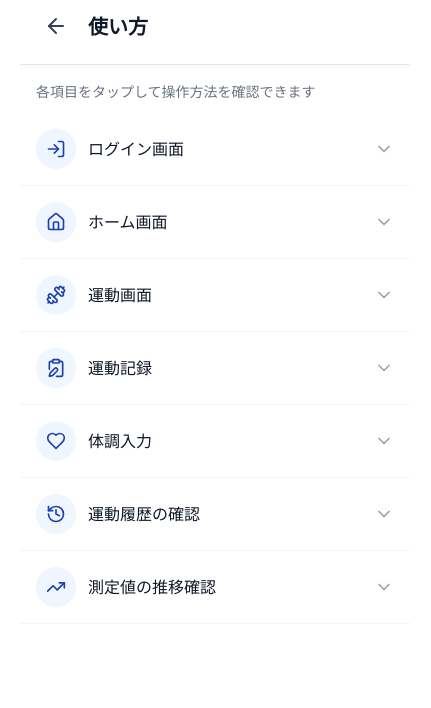
Test case: UserGuide（使い方） › accordion interaction › should show exercise history section content when expanded
Click the button "運動履歴の確認". click: x=56, y=514
box: top-left (20, 478), bottom-right (410, 550)
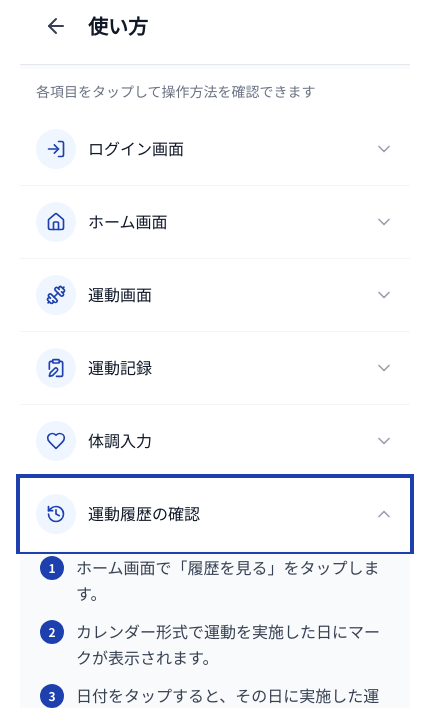
Expected: the text "カレンダー形式で運動を実施した日にマークが表示されます。" is shown, top-left (76, 618), bottom-right (394, 670)
